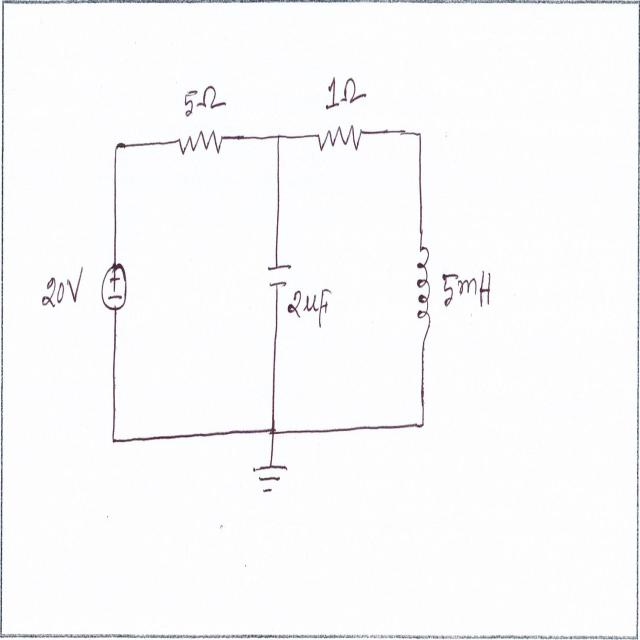capacitor: (267, 256, 292, 292)
ground: (250, 454, 288, 498)
inductor: (415, 240, 433, 336)
resistor: (177, 125, 226, 164), (316, 119, 363, 159)
voltage_source: (100, 261, 130, 316)
